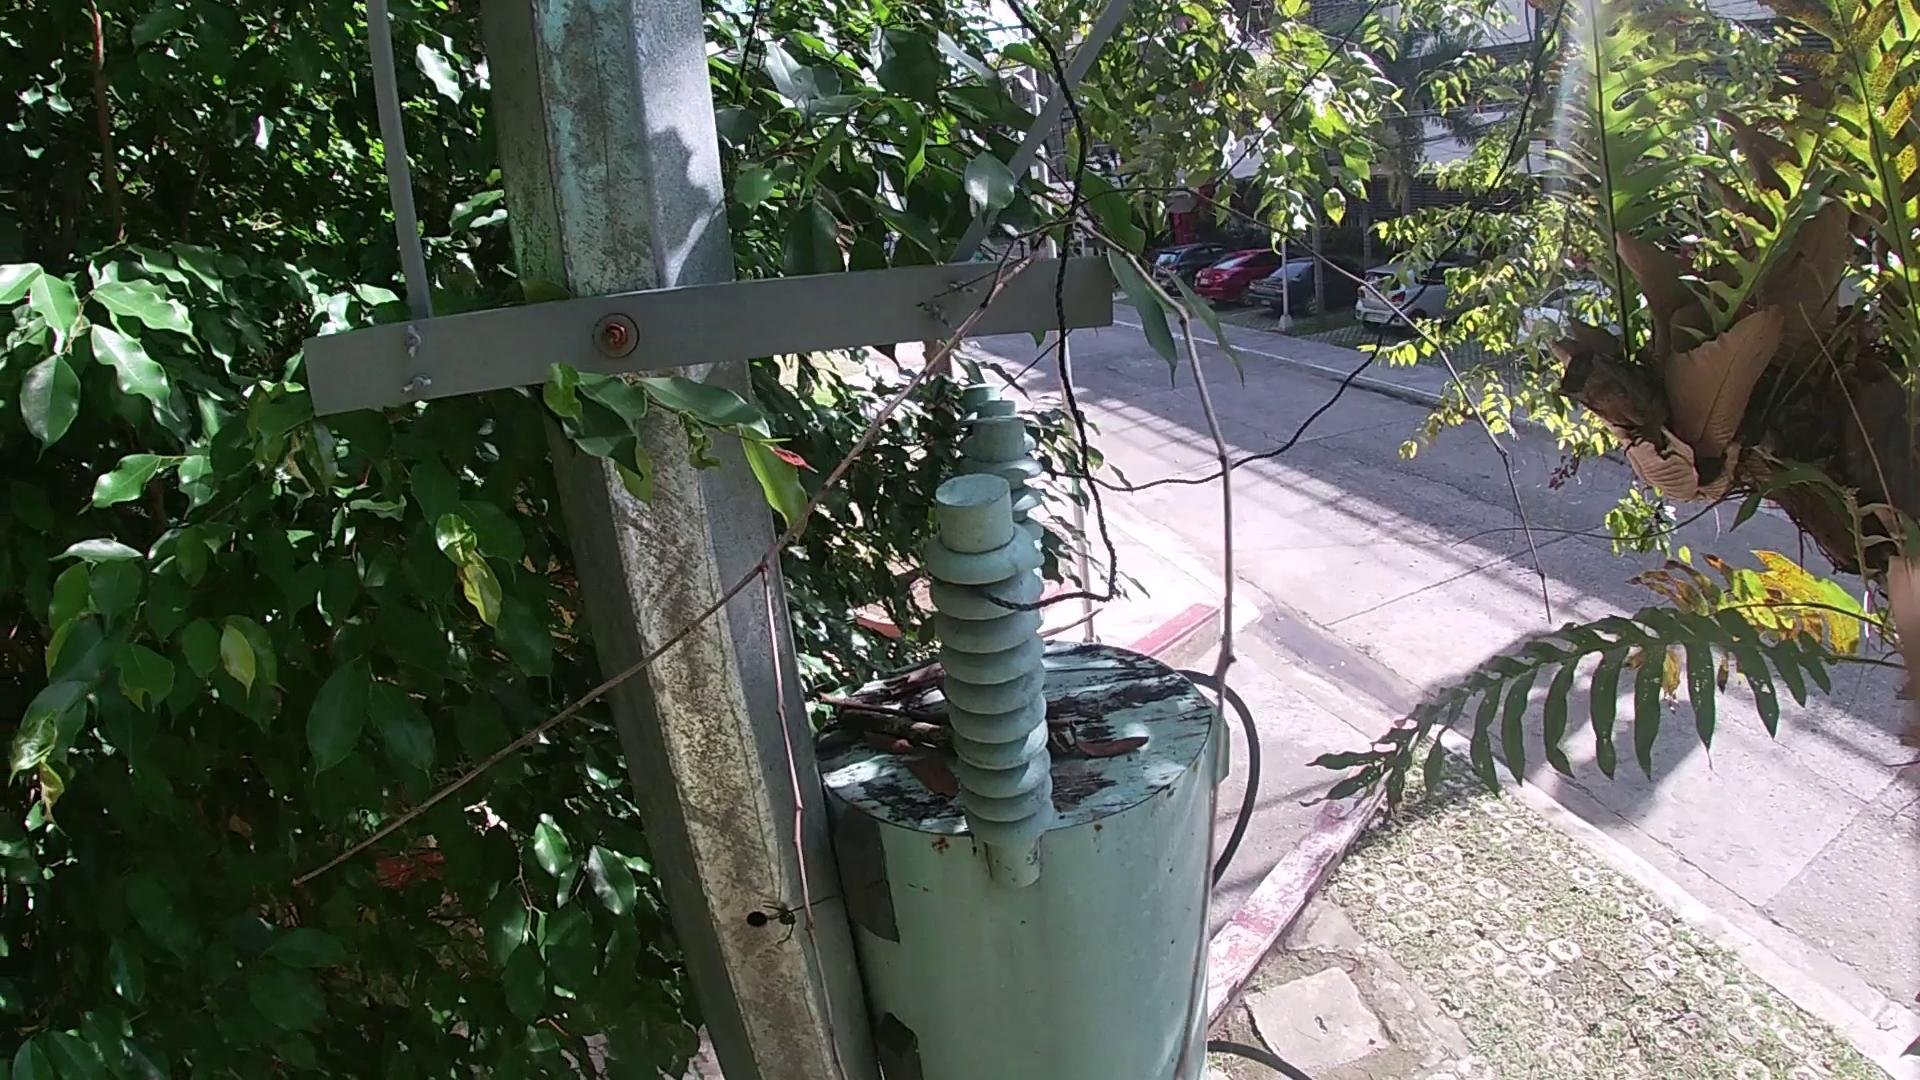leaf: (1065, 717, 1154, 764), (891, 750, 963, 806), (856, 731, 916, 760)
tree branch: (284, 162, 1571, 1077), (815, 698, 967, 760), (880, 667, 947, 705)
